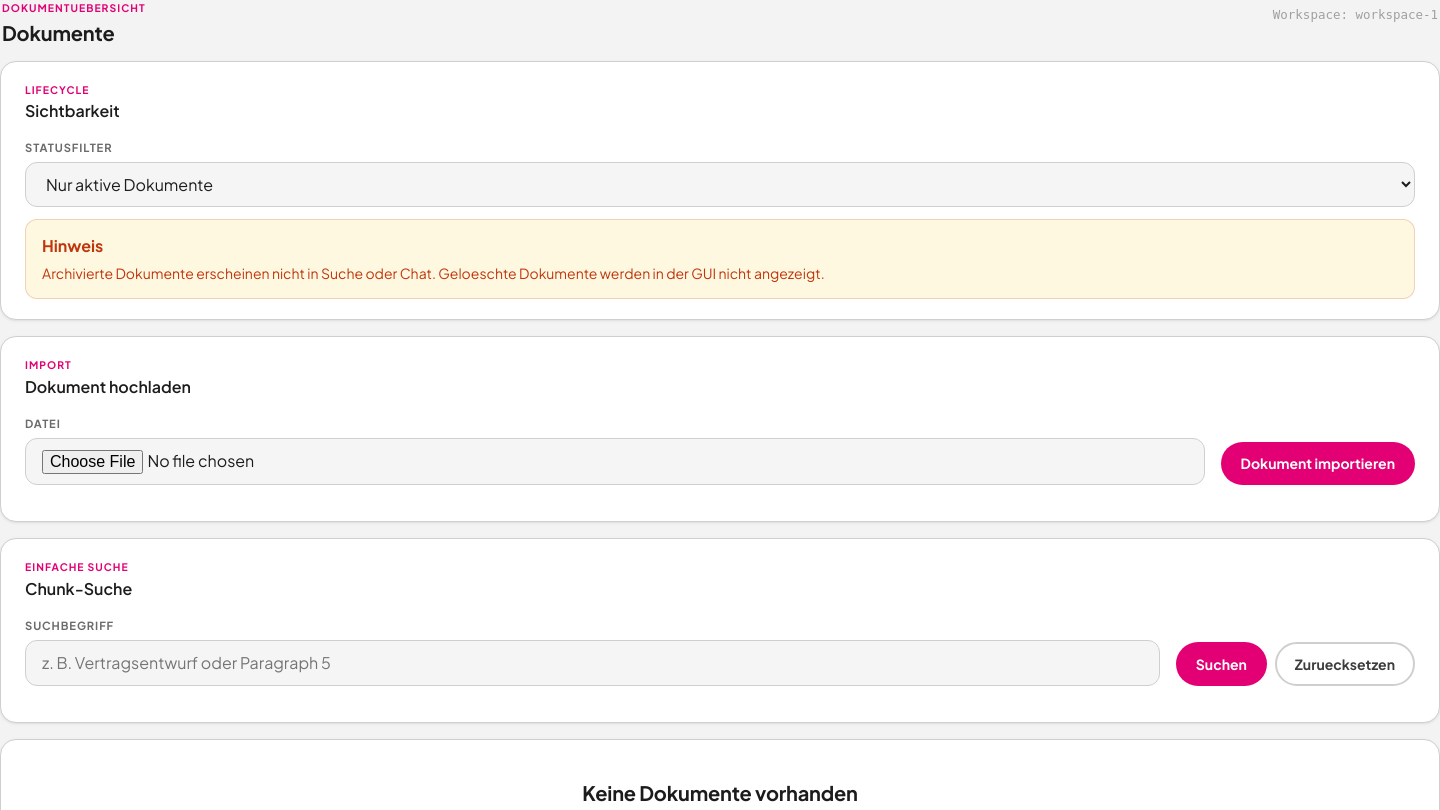
DocumentsPage › renders search error state when search api fails
Expected: the heading "Keine Dokumente vorhanden" is shown, [582, 780, 858, 805]
Type "***" into the search field with placeholder "z. B. Vertragsentwurf oder Paragraph 5" at (592, 663), box [25, 640, 1160, 686]
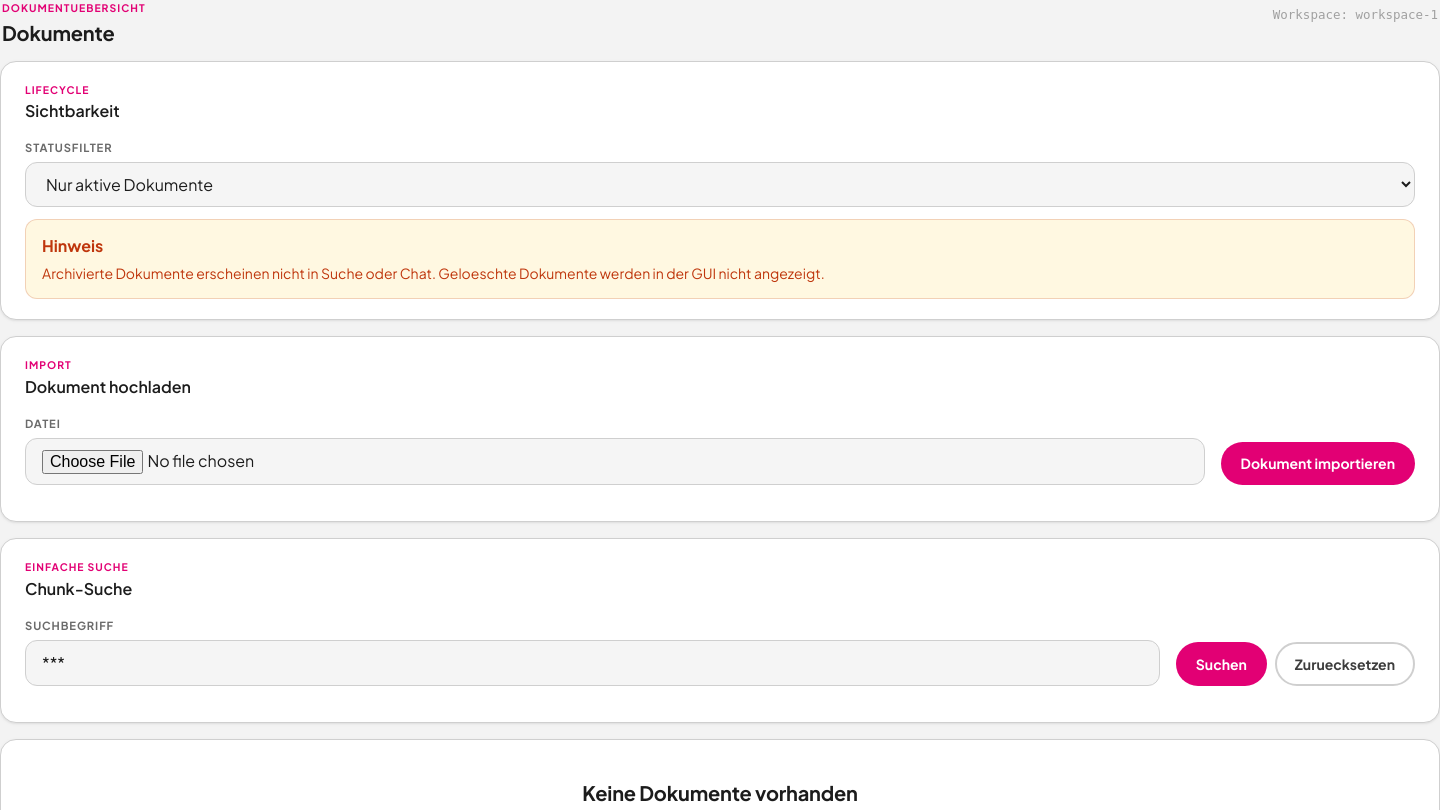
Click the button "Suchen" at (1221, 664), box [1176, 642, 1267, 686]
(page scrolled)
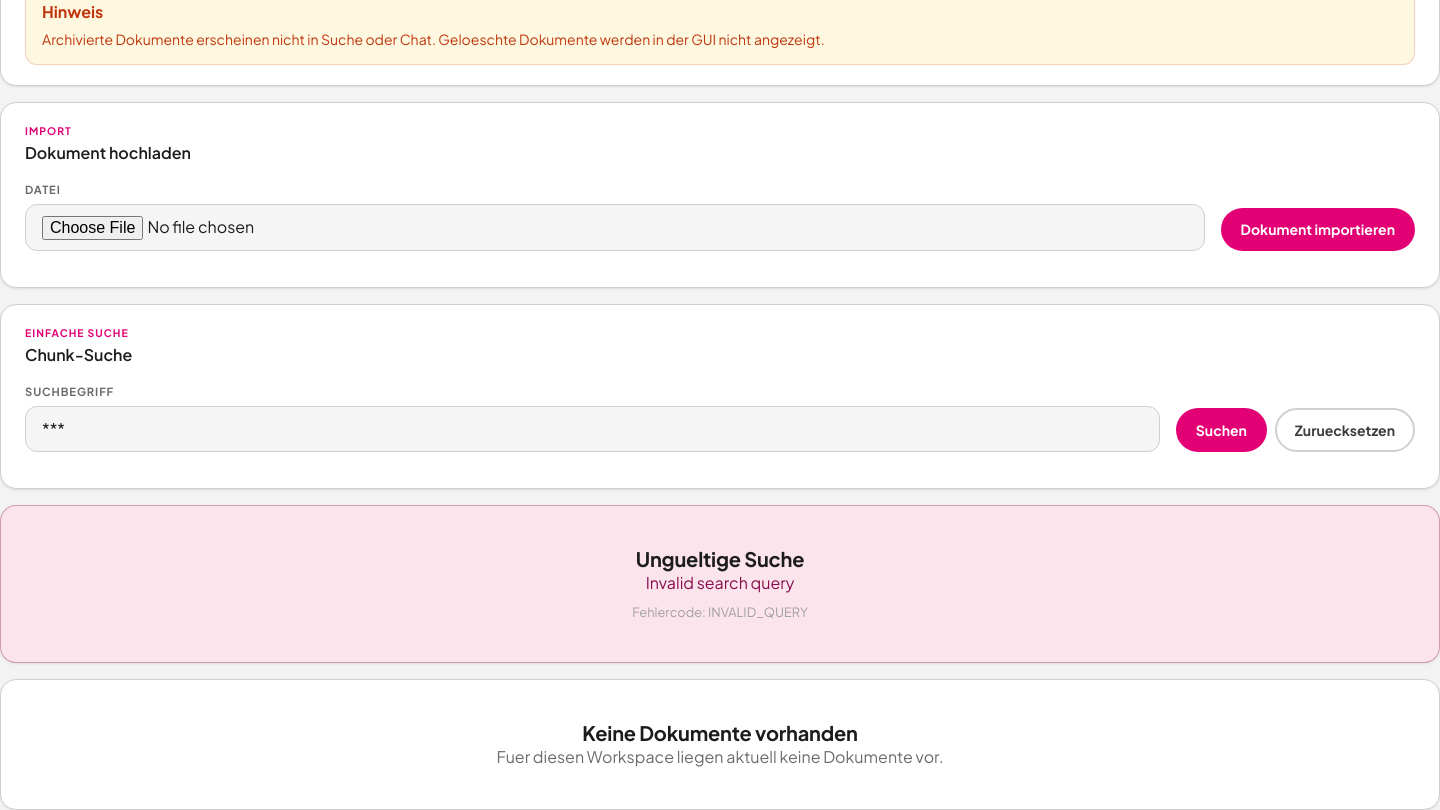
Now the heading "Ungueltige Suche" is shown, box [636, 546, 804, 571]
Now the text "Fehlercode: INVALID_QUERY" is shown, box [632, 604, 808, 620]
